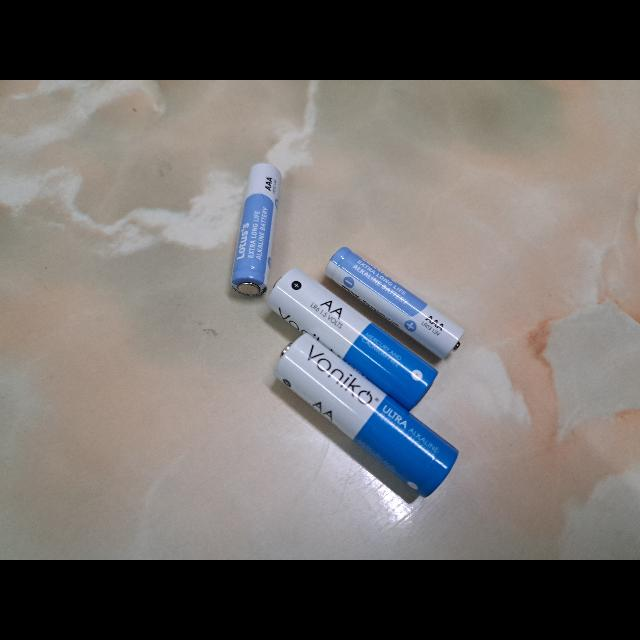bateria: (272, 333, 460, 497), (267, 268, 439, 409), (323, 247, 465, 361), (232, 162, 280, 298)
